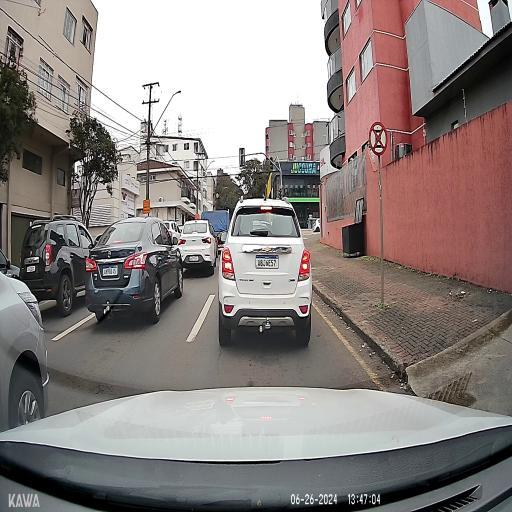R-6c: (369, 120, 388, 154)
